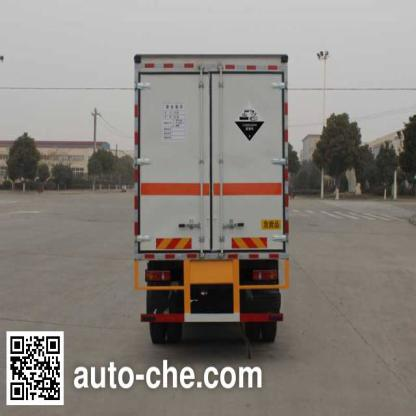normal-truck: (125, 40, 291, 333)
